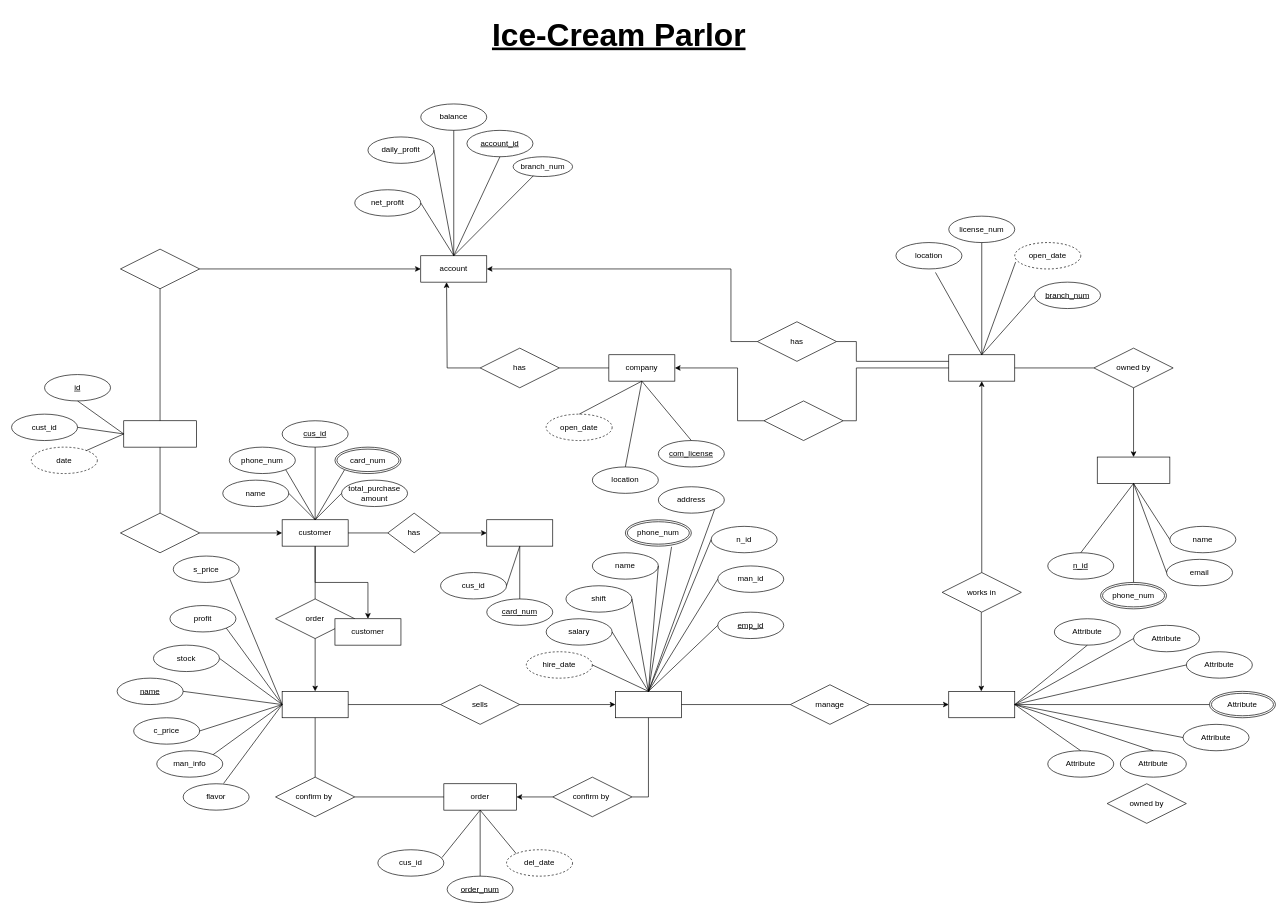
The diagram is 1287 pixels wide and 914 high, and some of its shapes have lost their labels. The shapes that lost their labels are listed below. From the top down, each one's box as (x1, y1, x2, y2) in pixels, then its label:
(120, 248, 200, 289): process
(948, 354, 1015, 381): branch
(123, 420, 196, 447): transaction
(763, 400, 843, 441): is part of
(1097, 456, 1170, 483): owner
(120, 512, 200, 553): makes
(486, 519, 553, 546): card
(281, 691, 348, 718): ice-cream
(615, 691, 681, 718): employee
(948, 691, 1015, 718): manager
